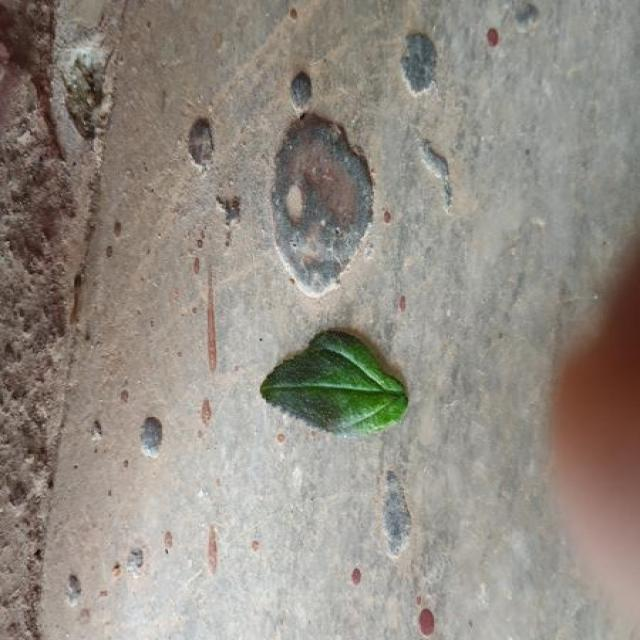Astma_weed: (260, 330, 408, 436)
